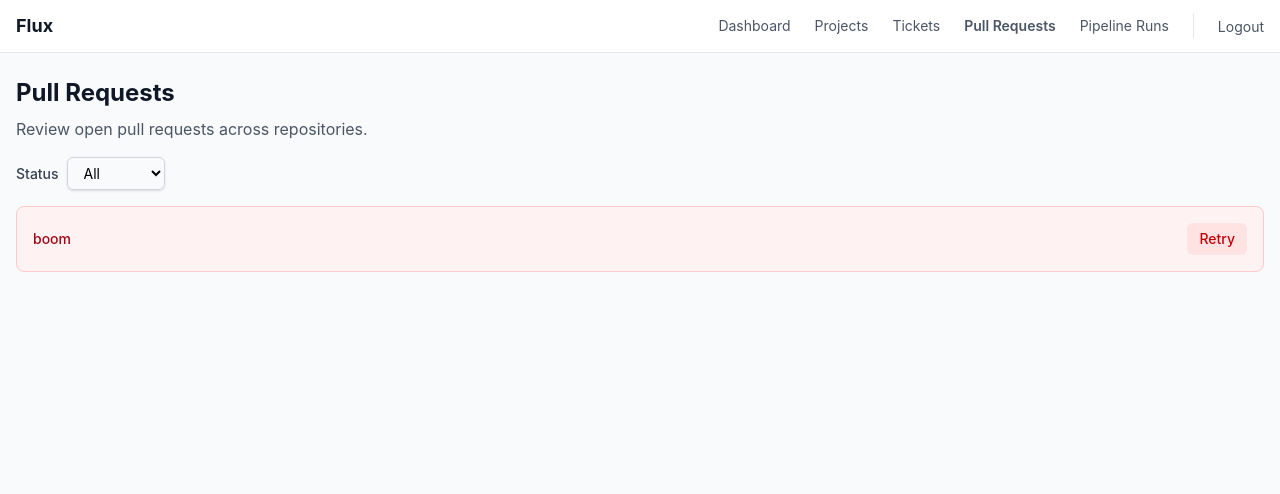
it: PullRequestsPage › shows a retry button in the error banner
Check: the message "boom Retry" is shown, box [16, 206, 1264, 272]
Step 1. Click the button "Retry" → {"x": 1217, "y": 239}, box [1187, 223, 1247, 255]
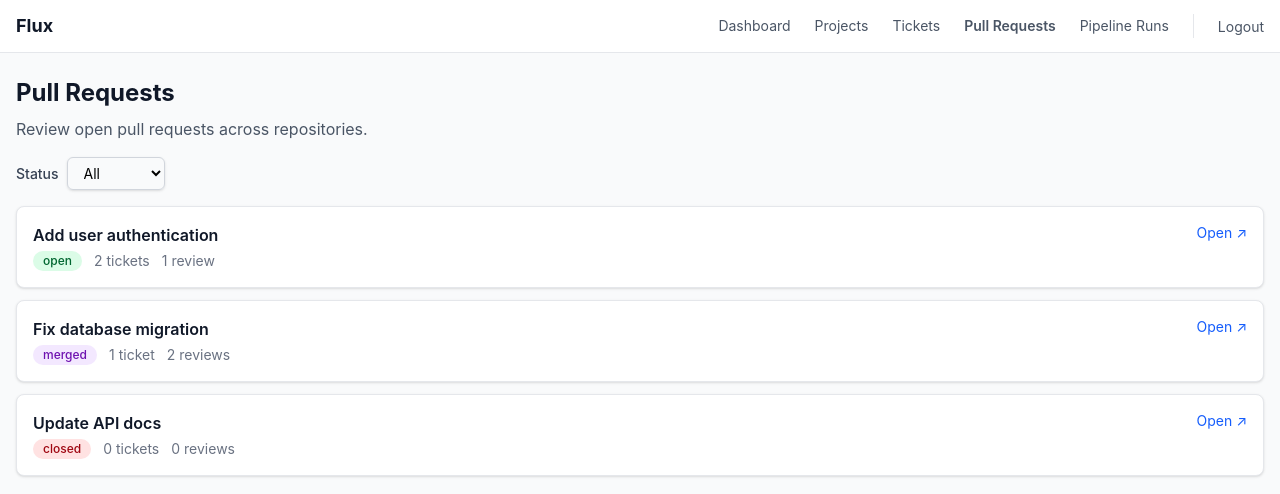
Check: the heading "Add user authentication" is shown, box [33, 225, 218, 245]
